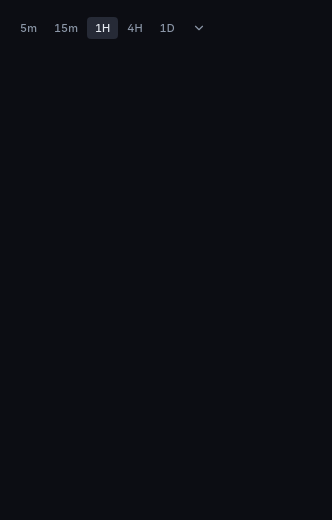
Test: IntervalPicker › selects an interval from the menu and closes it
Click the button named "All timeframes". click: (199, 28)
box: [183,12,215,44]
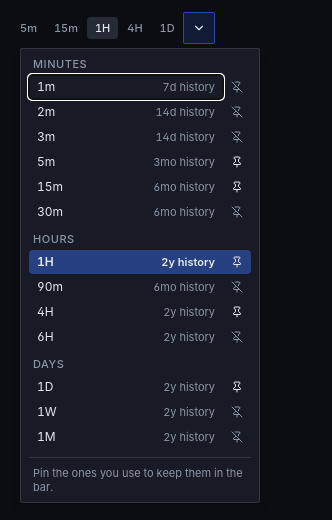
Click the button "90m 6mo history". click: (126, 287)
box: [29,275,223,299]
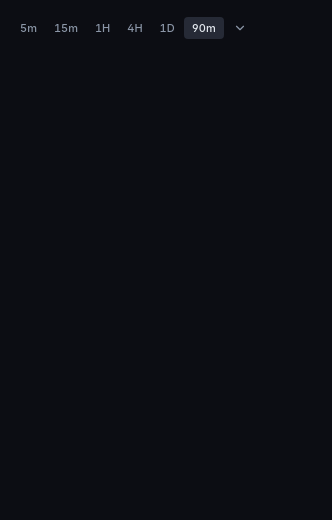
Expected: the button "90m" is shown, [184,17,224,39]
Expected: the text "Minutes" is gone
